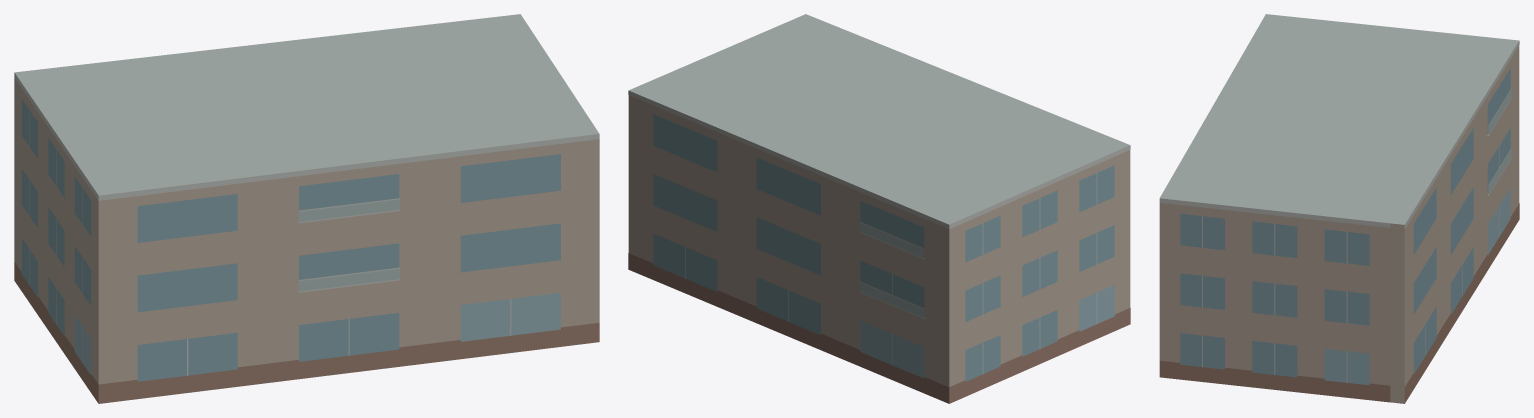
Rendered from survey-upis-32860709.glb.
3 views of the same model, side by side, from view 1: azimuth 30°, elevation 25°; view 2: azimuth 150°, elevation 25°; view 3: azimuth 270°, elevation 25° (orthographic). The views are drawn at different scales.
Parts seen in each view (by area): view 1: survey-upis-32860709.tmp; view 2: survey-upis-32860709.tmp; view 3: survey-upis-32860709.tmp.
Part boxes in pixels (x1,y1,x2,y2): survey-upis-32860709.tmp: (14, 14, 599, 403); survey-upis-32860709.tmp: (628, 14, 1130, 403); survey-upis-32860709.tmp: (1159, 14, 1519, 403).
Size of the model in its own units: 24.25 by 9.6 by 17.5.
